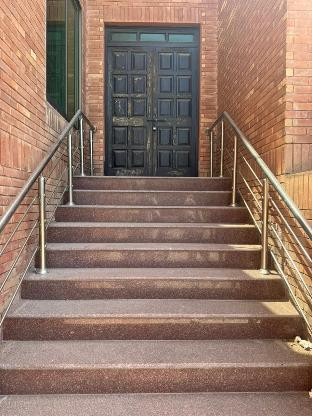door: (48, 163, 265, 416), (98, 17, 204, 177)
